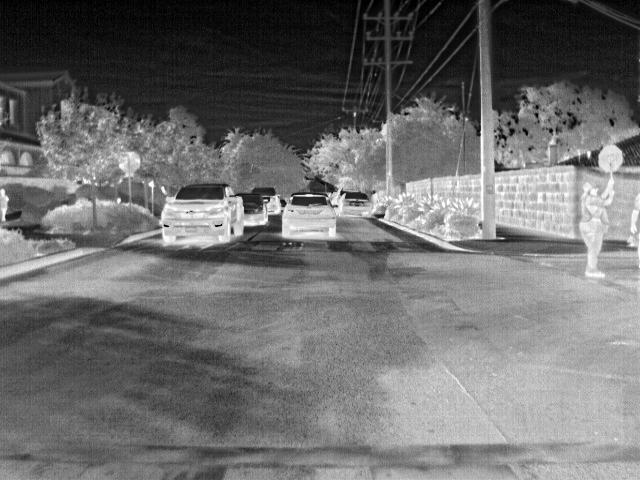car: (160, 183, 244, 245), (282, 192, 337, 240), (234, 192, 268, 225), (250, 188, 280, 214), (339, 193, 371, 215), (332, 190, 347, 206)
person: (578, 180, 608, 280), (0, 188, 11, 222)
